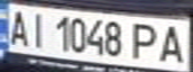0: (66, 15, 87, 54)
1: (48, 12, 72, 52)
4: (84, 16, 106, 56)
8: (103, 18, 130, 58)
A: (154, 21, 190, 64), (3, 7, 30, 47)
I: (24, 9, 48, 48)
P: (127, 20, 163, 61)
